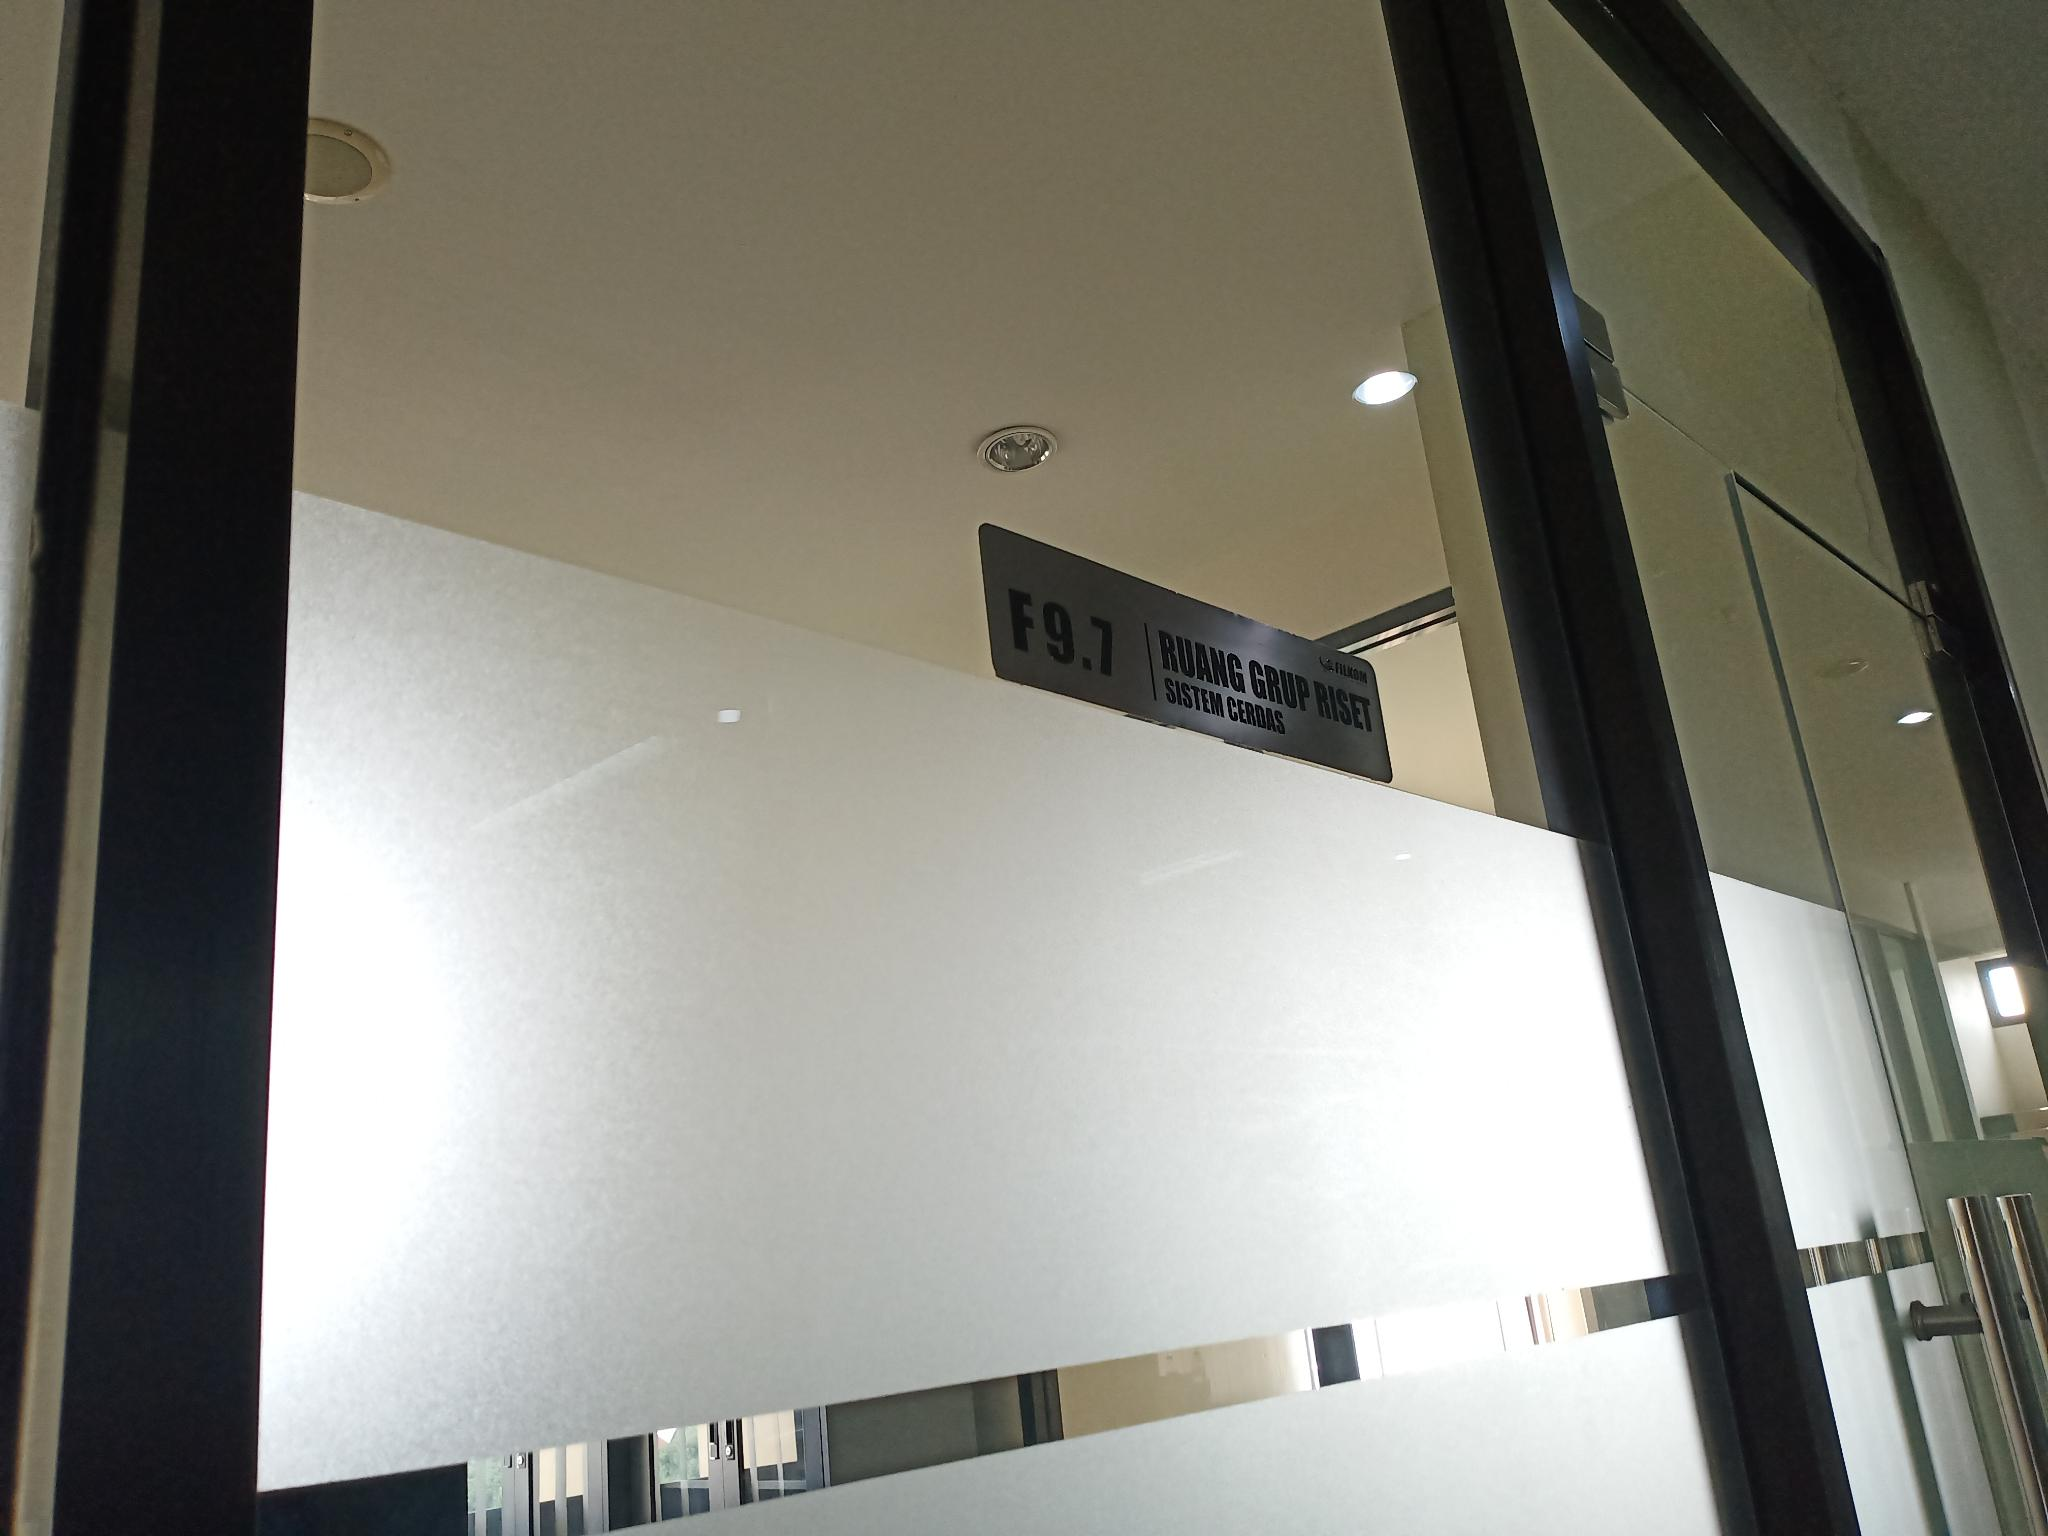plate: (979, 515, 1393, 786)
